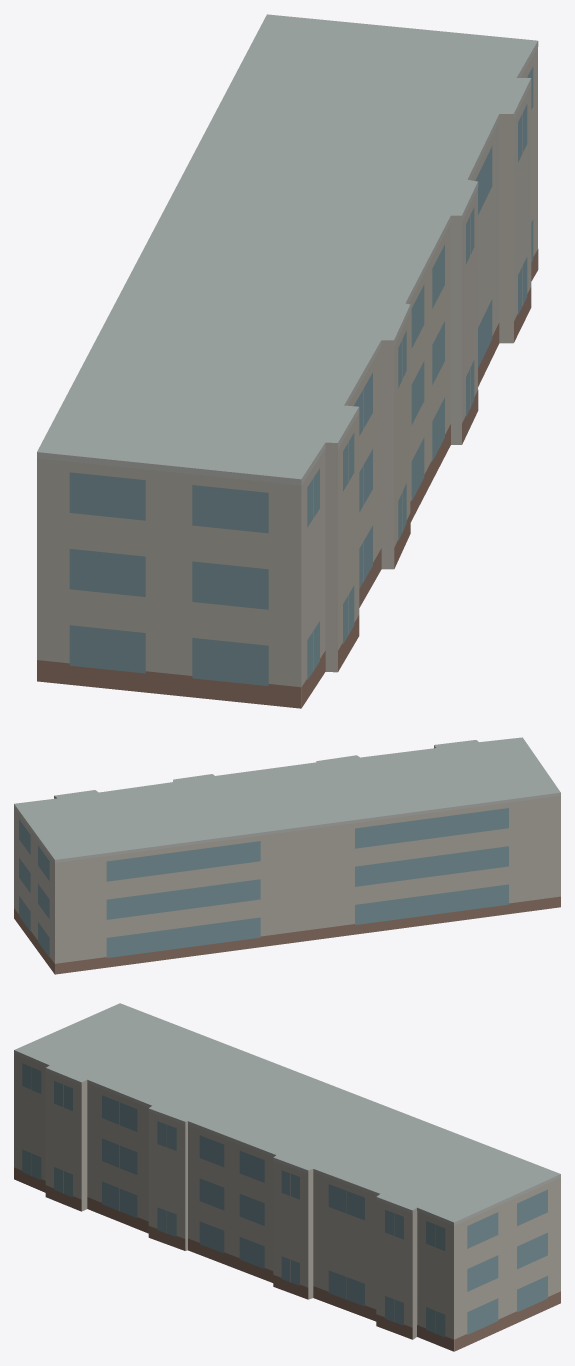
Rendered from survey-upis-32712091.glb.
The picture shows the model from 3 angles, top to bottom: view 1: azimuth 30°, elevation 25°; view 2: azimuth 150°, elevation 25°; view 3: azimuth 270°, elevation 25°; orthographic projection. The views are drawn at different scales.
Visible parts, largest first — view 1: survey-upis-32712091.tmp; view 2: survey-upis-32712091.tmp; view 3: survey-upis-32712091.tmp.
Boxes of the visible parts, x1,y1,x2,y2 form: survey-upis-32712091.tmp: (37, 14, 538, 708); survey-upis-32712091.tmp: (14, 737, 560, 974); survey-upis-32712091.tmp: (14, 1003, 560, 1351).
Bounding box in the file's own units: 33.31 × 9.15 × 35.09.
